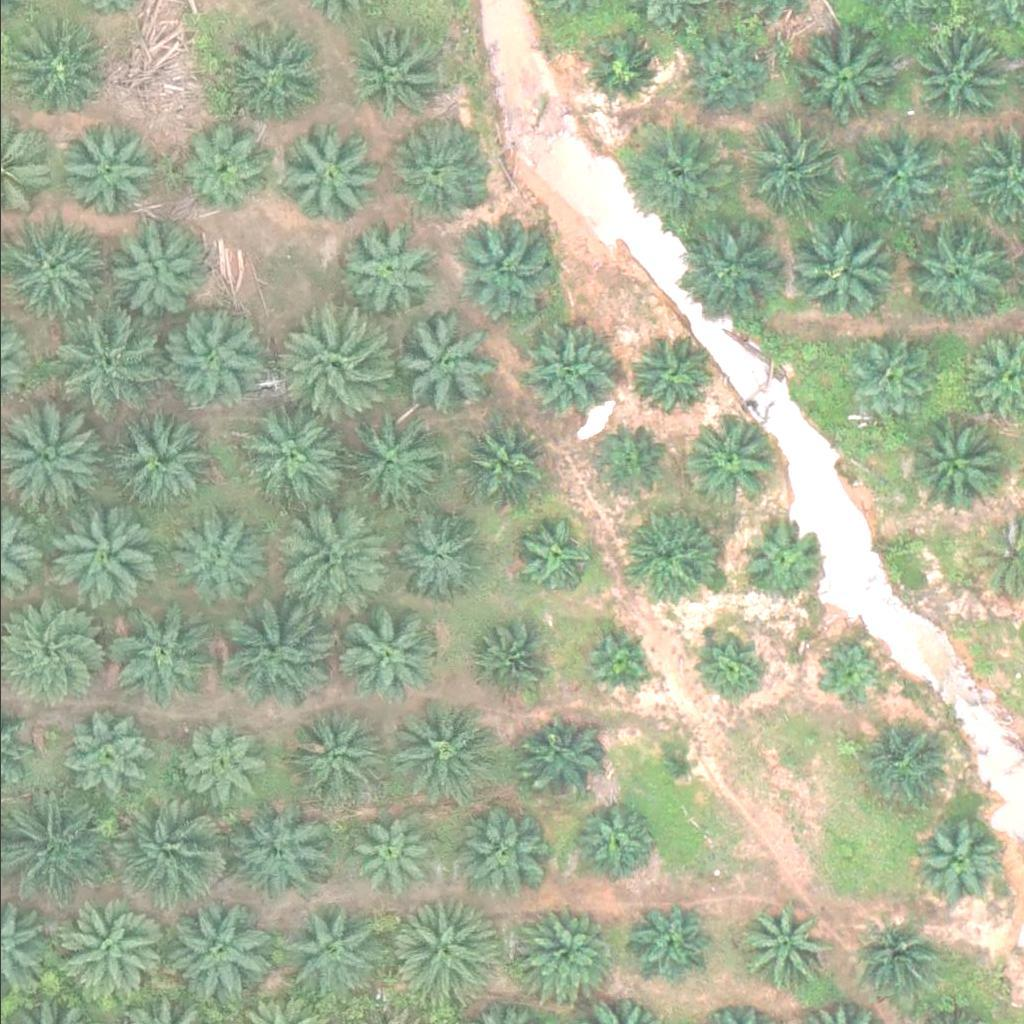Kelapa_Sawit: (903, 214, 1017, 327), (276, 498, 390, 611), (793, 18, 906, 131), (613, 117, 726, 230), (792, 206, 905, 319), (42, 497, 155, 610), (115, 791, 229, 903), (220, 595, 334, 707), (732, 111, 845, 223), (669, 210, 782, 322), (386, 898, 499, 1010), (48, 307, 161, 419), (158, 301, 271, 413), (278, 308, 391, 420), (910, 23, 1011, 123), (611, 502, 712, 602), (512, 904, 613, 1004), (444, 805, 545, 905), (331, 603, 432, 703), (394, 315, 495, 415), (455, 213, 556, 313), (390, 121, 491, 221), (341, 21, 442, 121), (277, 902, 378, 1002), (158, 900, 259, 1000), (220, 800, 321, 900), (170, 504, 271, 604), (240, 403, 341, 503), (107, 407, 208, 507), (103, 218, 204, 318), (55, 123, 156, 223), (280, 126, 381, 226), (220, 22, 321, 122), (853, 122, 953, 222), (910, 410, 1010, 510), (847, 714, 947, 814), (390, 703, 490, 803), (509, 318, 609, 418), (340, 217, 440, 317), (51, 902, 151, 1002), (60, 710, 160, 810), (286, 706, 386, 806), (109, 601, 209, 701), (389, 506, 489, 606), (334, 413, 434, 513), (2, 17, 102, 117), (578, 26, 666, 114), (847, 335, 935, 423), (624, 901, 712, 989), (337, 808, 425, 896), (519, 714, 607, 802), (177, 722, 265, 810), (739, 907, 828, 994), (682, 32, 770, 119), (849, 920, 937, 1007), (919, 813, 1007, 900), (736, 519, 824, 606), (456, 418, 544, 505), (455, 614, 543, 701), (578, 798, 666, 885), (687, 413, 775, 500), (624, 331, 712, 418), (181, 126, 269, 213), (514, 516, 590, 591), (574, 622, 650, 697), (691, 628, 767, 703), (811, 639, 887, 714), (584, 426, 659, 501), (656, 739, 706, 789)
